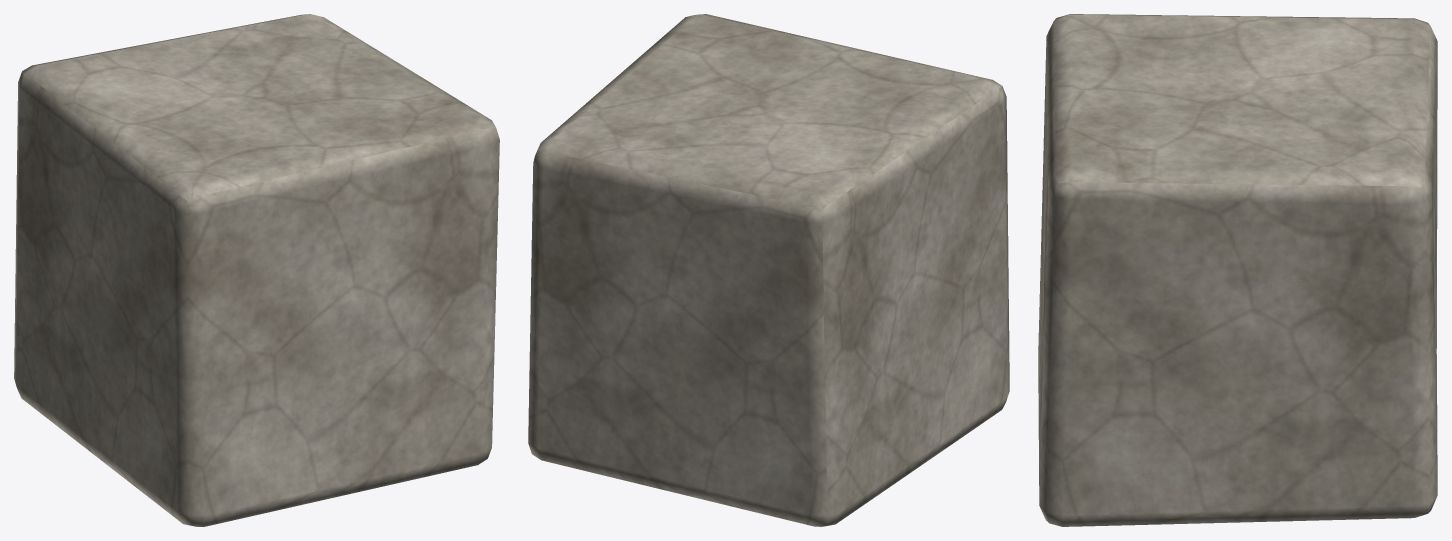
Rendered from Stone_Block_B.glb.
3 views of the same model, side by side, from view 1: azimuth 30°, elevation 25°; view 2: azimuth 150°, elevation 25°; view 3: azimuth 270°, elevation 25° (orthographic). The views are drawn at different scales.
Visible parts, largest first — view 1: Stone_Block_B; view 2: Stone_Block_B; view 3: Stone_Block_B.
Boxes of the visible parts, box(x1,y1,x2,y2) form: Stone_Block_B: box(14, 14, 499, 526); Stone_Block_B: box(528, 14, 1009, 526); Stone_Block_B: box(1038, 14, 1437, 526).
Bounding box in the file's own units: 0.5103 × 0.5163 × 0.5085.
Materials: 1 (1 with a texture image).
